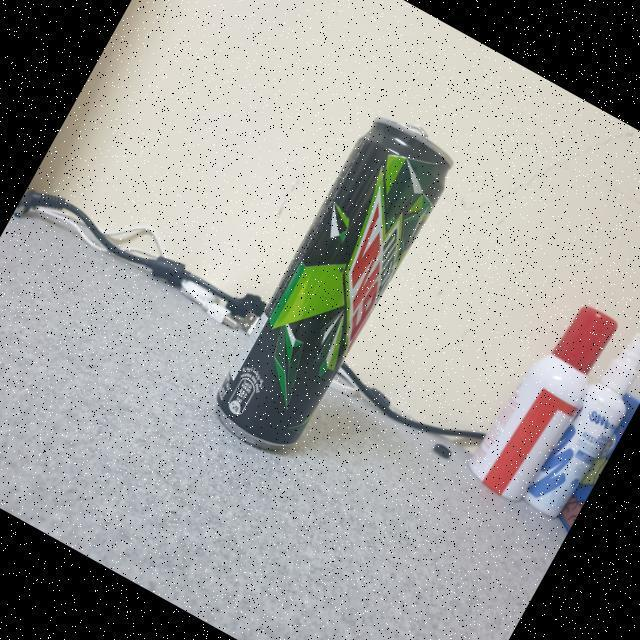can: (189, 87, 477, 478)
